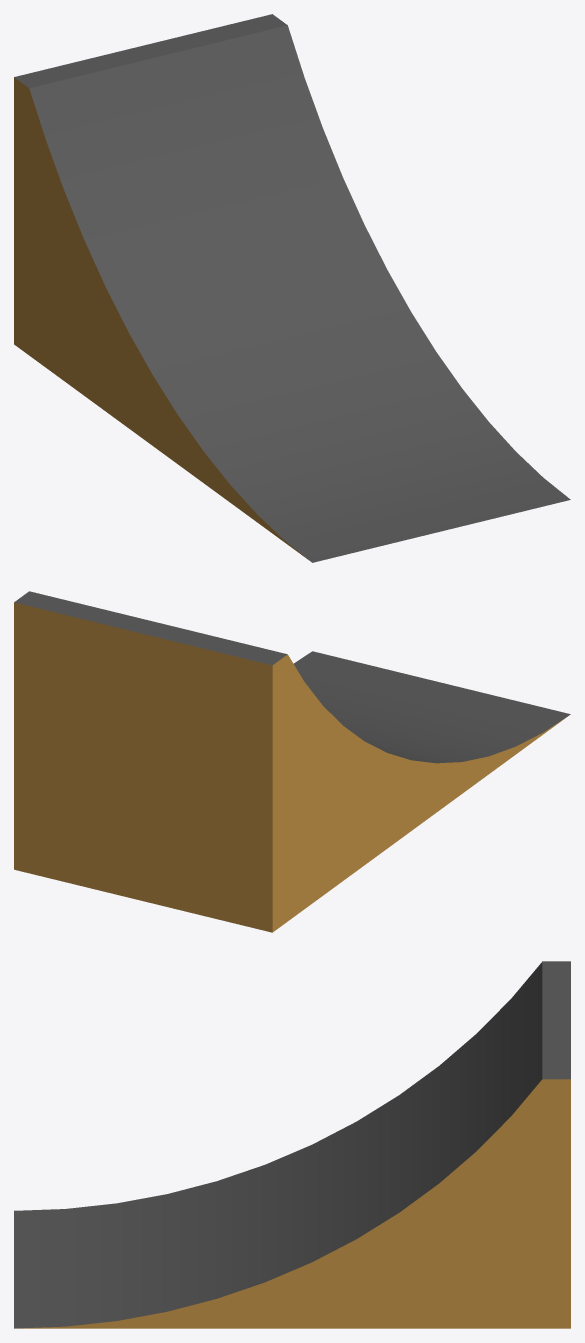
The model's file is Skate_Quarter_Pipe_Long_w_Back_01.FBX.
The picture shows the model from 3 angles, top to bottom: view 1: azimuth 30°, elevation 25°; view 2: azimuth 150°, elevation 25°; view 3: azimuth 270°, elevation 25°; orthographic projection. The views are drawn at different scales.
Parts seen in each view (by area): view 1: Skate_Quarter_Pipe_Long_w_Back_01; view 2: Skate_Quarter_Pipe_Long_w_Back_01; view 3: Skate_Quarter_Pipe_Long_w_Back_01.
Boxes of the visible parts, <box> form: Skate_Quarter_Pipe_Long_w_Back_01: <box>14,14,570,562</box>; Skate_Quarter_Pipe_Long_w_Back_01: <box>14,591,570,932</box>; Skate_Quarter_Pipe_Long_w_Back_01: <box>14,961,570,1328</box>.
Size of the model in its own units: 3 by 2.96 by 6.
